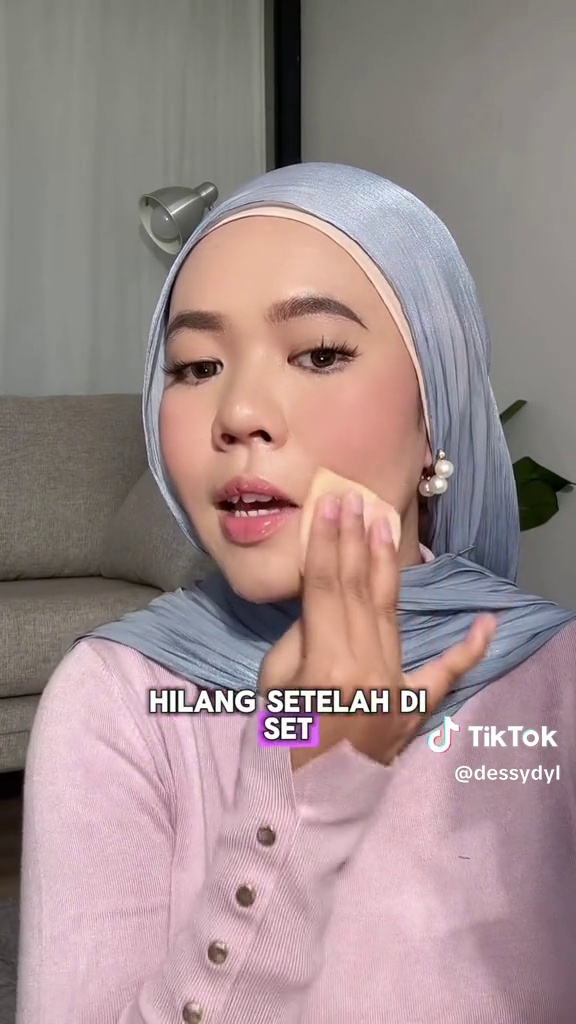train' :'yolo_data/train/images',: (291, 463, 415, 613)
